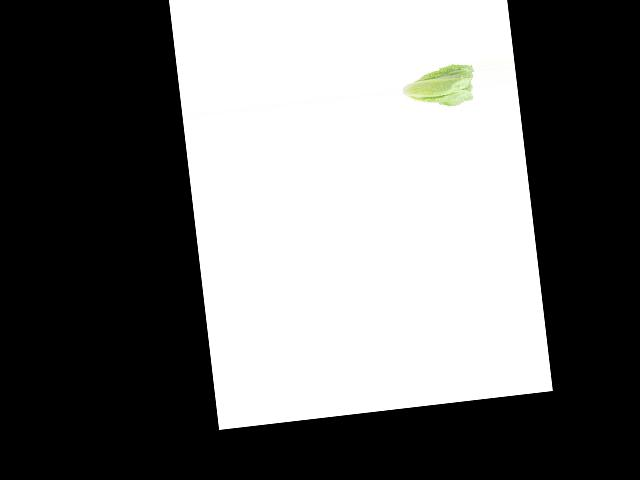lettuce: (400, 60, 478, 116)
